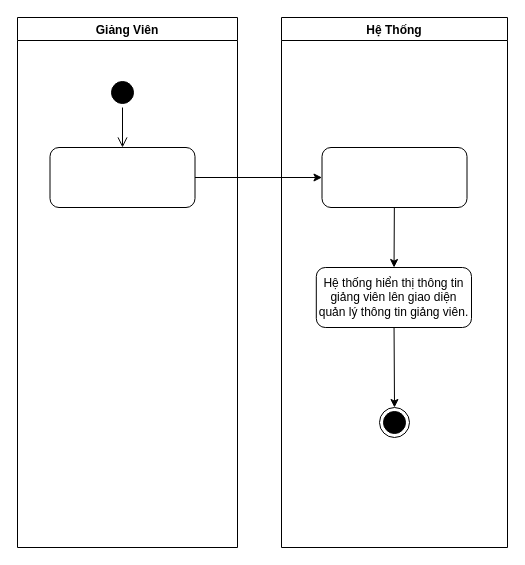
This 525x565 diagram has some shape labels left out. Here are the shapes that lost their labels. From the top down, the box of each, then its label:
(49, 146, 195, 208): Giảng viên chọn chức năng quản lý thông tin giảng viên
(321, 146, 467, 208): Hệ thống lấy thông tin của giảng viên trên cơ sở dữ liệu.
